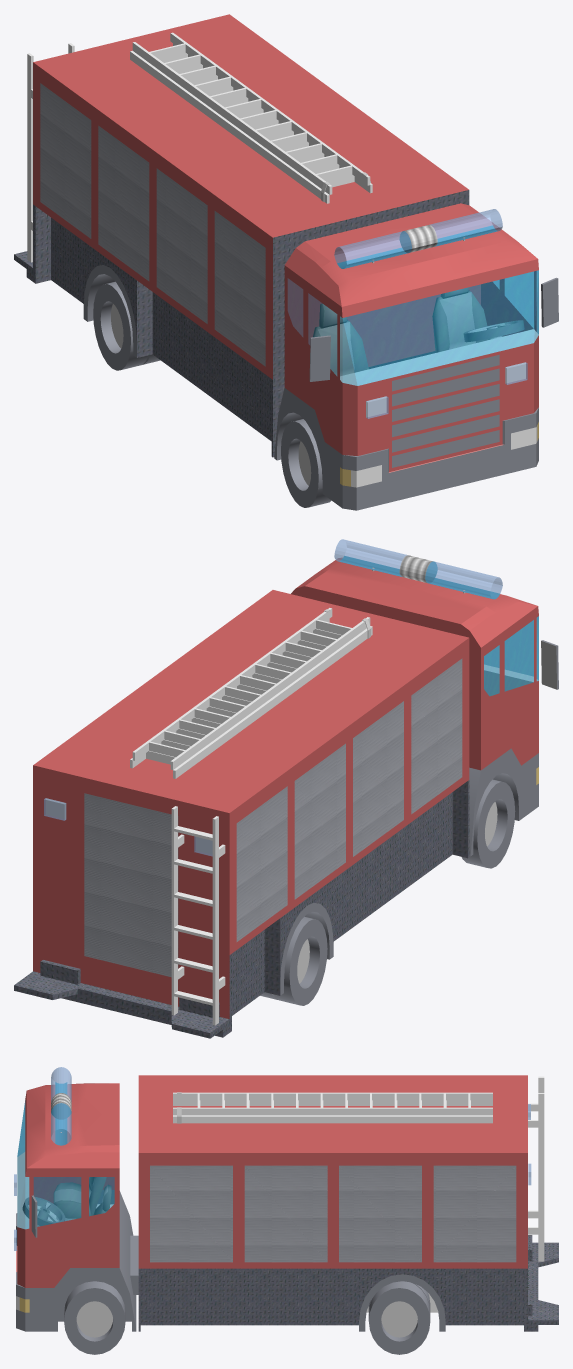
Rendered from Lovo_Fire_engine.glb.
3 renders of one model, top to bottom at view 1: azimuth 30°, elevation 25°; view 2: azimuth 150°, elevation 25°; view 3: azimuth 270°, elevation 25°, orthographic. The views are drawn at different scales.
Parts seen in each view (by area): view 1: e0b61b26-460c-4f06-b4f0-0356b5ddf81b; view 2: e0b61b26-460c-4f06-b4f0-0356b5ddf81b; view 3: e0b61b26-460c-4f06-b4f0-0356b5ddf81b.
Boxes of the visible parts, bbox=[...] form: e0b61b26-460c-4f06-b4f0-0356b5ddf81b: bbox=[14, 14, 558, 510]; e0b61b26-460c-4f06-b4f0-0356b5ddf81b: bbox=[14, 539, 558, 1038]; e0b61b26-460c-4f06-b4f0-0356b5ddf81b: bbox=[14, 1067, 558, 1354].
Size of the model in its own units: 2.89 by 2.98 by 6.75.
Materials: 18 (4 with a texture image).
